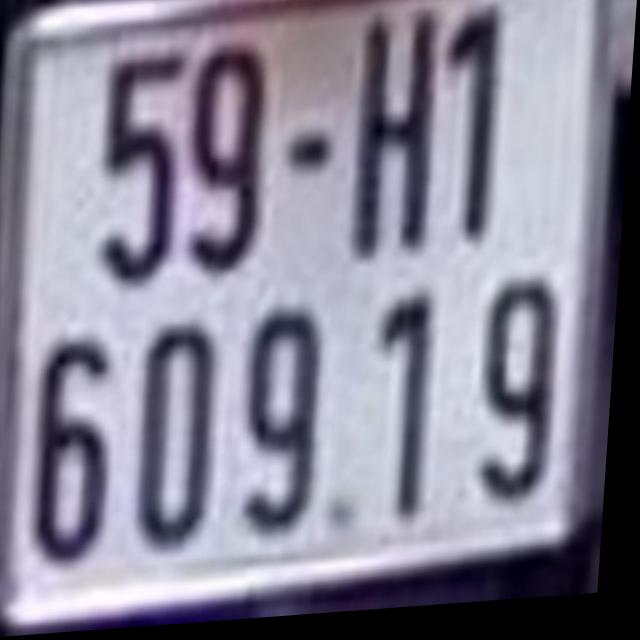0: (141, 330, 226, 551)
1: (441, 7, 507, 256), (377, 293, 440, 521)
5: (99, 54, 194, 286)
6: (39, 336, 126, 565)
9: (187, 49, 273, 269), (251, 305, 330, 540), (487, 283, 566, 513)
H: (353, 21, 441, 265)
